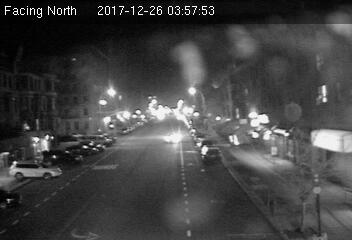car: (199, 145, 222, 162), (164, 131, 182, 145)
